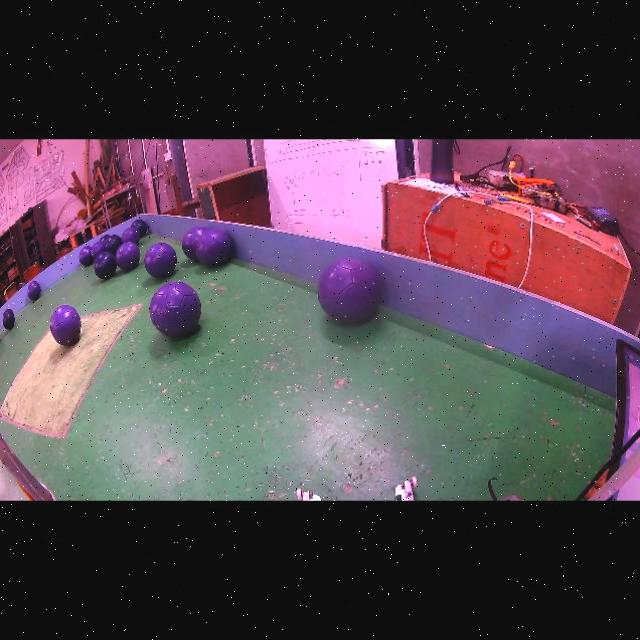B: (94, 251, 117, 279), (104, 235, 122, 255), (131, 220, 147, 237), (3, 309, 15, 331)
P: (317, 259, 380, 324), (150, 283, 201, 338), (196, 229, 233, 268), (50, 305, 82, 347), (145, 243, 177, 279), (182, 226, 208, 261), (116, 243, 141, 271), (121, 227, 141, 245), (91, 241, 106, 260), (79, 246, 93, 266), (28, 282, 40, 302)
